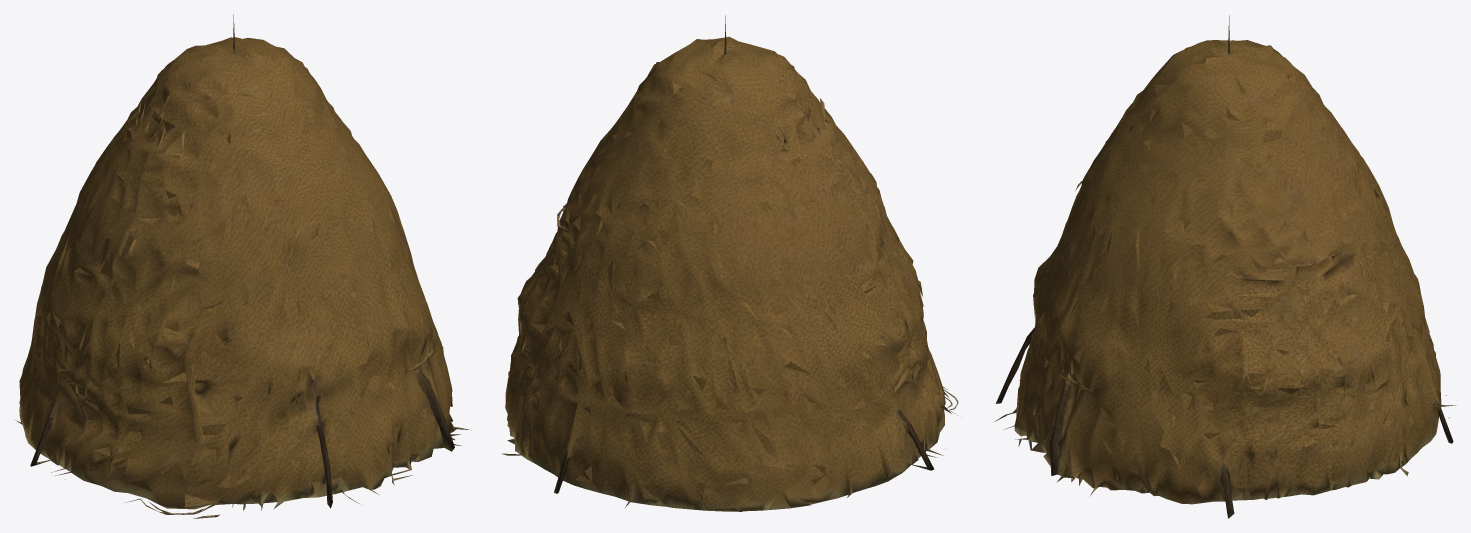
Rendered from haystack.glb.
The picture shows the model from 3 angles, left to right: view 1: azimuth 30°, elevation 25°; view 2: azimuth 150°, elevation 25°; view 3: azimuth 270°, elevation 25°; orthographic projection.
Parts seen in each view (by area): view 1: tripo_node_ae104543; view 2: tripo_node_ae104543; view 3: tripo_node_ae104543.
Boxes of the visible parts, x1,y1,x2,y2 form: tripo_node_ae104543: (15, 14, 471, 518); tripo_node_ae104543: (501, 15, 958, 511); tripo_node_ae104543: (994, 15, 1456, 518).
Size of the model in its own units: 1.06 by 1 by 1.04.
Materials: 1 (1 with a texture image).
